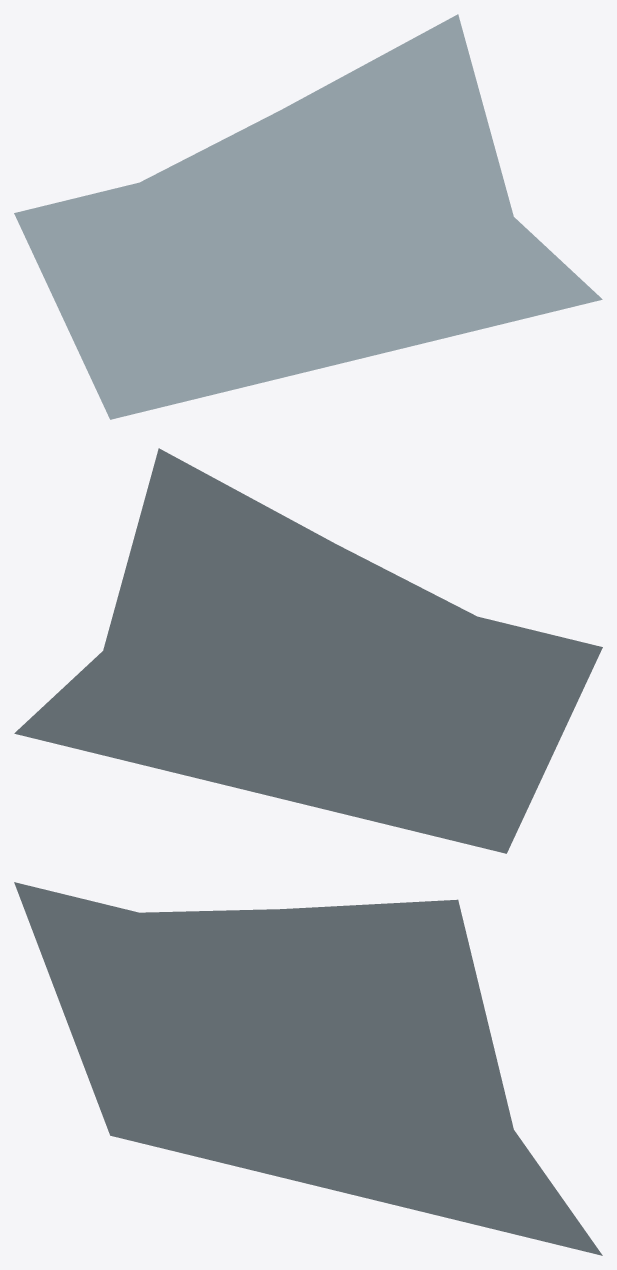
The picture shows the model from 3 angles, top to bottom: view 1: azimuth 30°, elevation 25°; view 2: azimuth 150°, elevation 25°; view 3: azimuth 330°, elevation 25°; orthographic projection.
Parts seen in each view (by area): view 1: pCube15; view 2: pCube15; view 3: pCube15.
Part boxes in pixels (x1,y1,x2,y2): pCube15: (14,14,602,419); pCube15: (14,448,602,853); pCube15: (14,882,602,1255).
Size of the model in its own units: 70.86 by 36.89 by 0.
